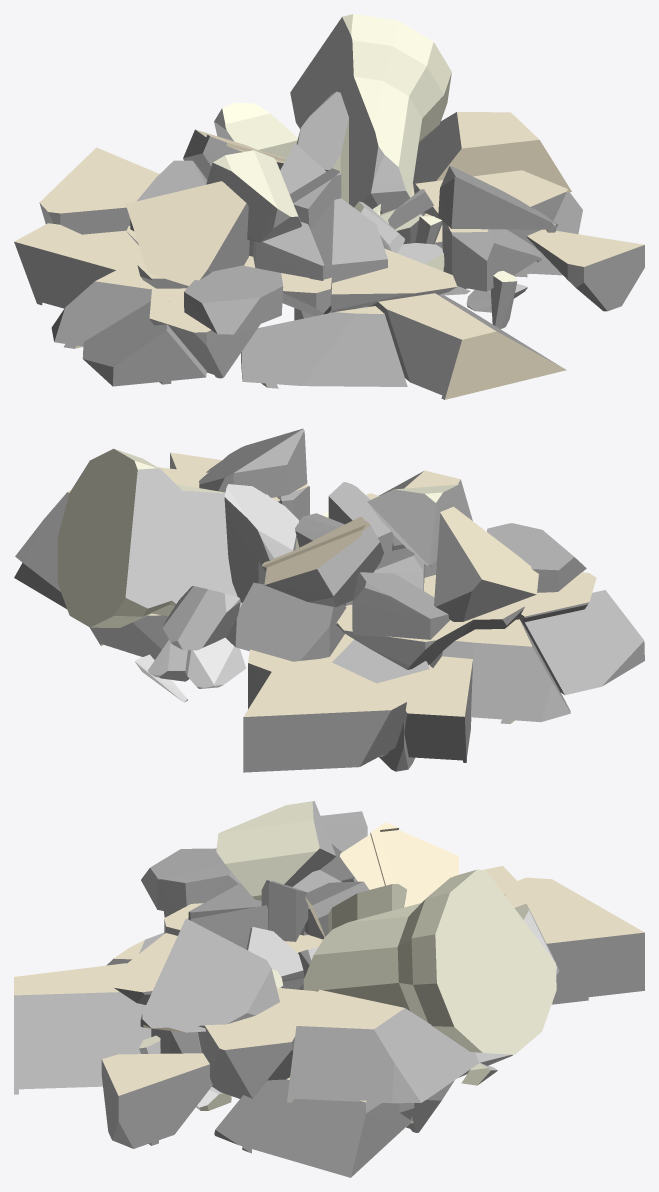
File: Celing_obstacle1.fbx
3 views of the same model, one above another, from view 1: azimuth 30°, elevation 25°; view 2: azimuth 150°, elevation 25°; view 3: azimuth 270°, elevation 25° (orthographic). The views are drawn at different scales.
Parts seen in each view (by area): view 1: Ceiling_obstacle1; view 2: Ceiling_obstacle1; view 3: Ceiling_obstacle1.
Boxes of the visible parts, box(x1,y1,x2,y2) form: Ceiling_obstacle1: box(14, 14, 644, 399); Ceiling_obstacle1: box(14, 428, 644, 772); Ceiling_obstacle1: box(14, 801, 644, 1177).
Bounding box in the file's own units: 349 × 137 × 323.
